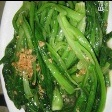youmaicai: (1, 0, 112, 112)
